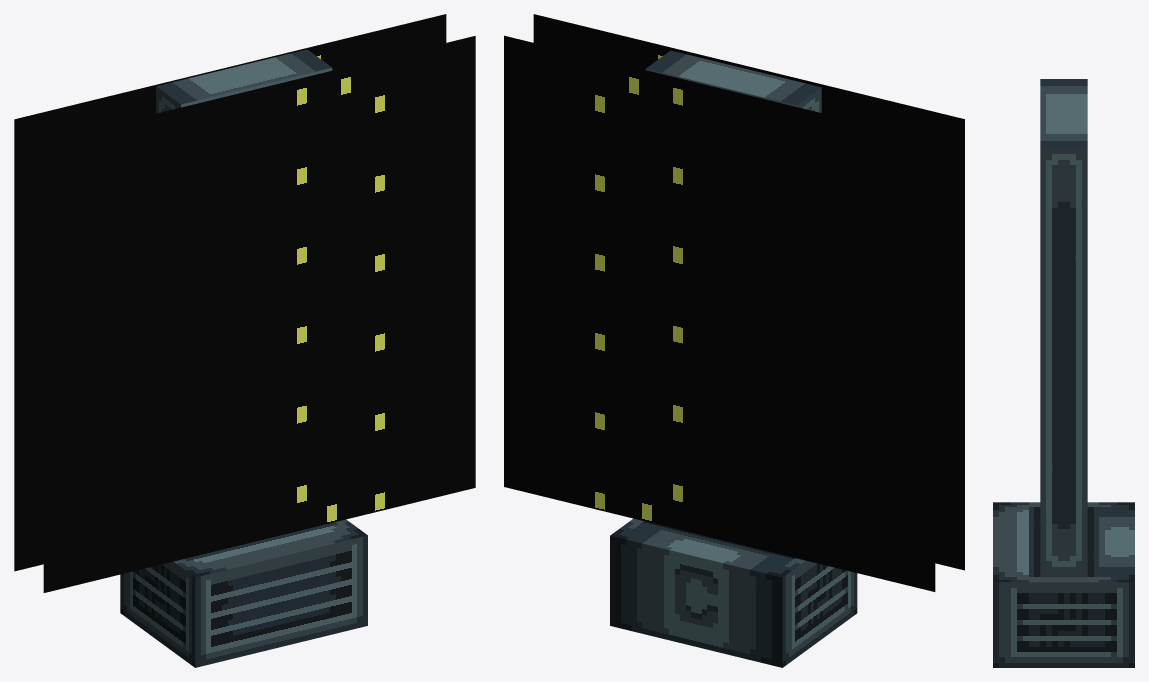
The model's file is casino_monitor.gltf.
3 renders of one model, left to right at view 1: azimuth 30°, elevation 25°; view 2: azimuth 150°, elevation 25°; view 3: azimuth 270°, elevation 25°, orthographic. The views are drawn at different scales.
Parts seen in each view (by area): view 1: cube (×4); view 2: cube (×4); view 3: cube (×2).
Boxes of the visible parts, bbox=[...] form: cube (×4): bbox=[14, 14, 475, 667]; cube (×4): bbox=[504, 14, 964, 667]; cube (×2): bbox=[993, 79, 1134, 667].
Size of the model in its own units: 2.5 by 3 by 0.75.
2 materials, 2 textured.
